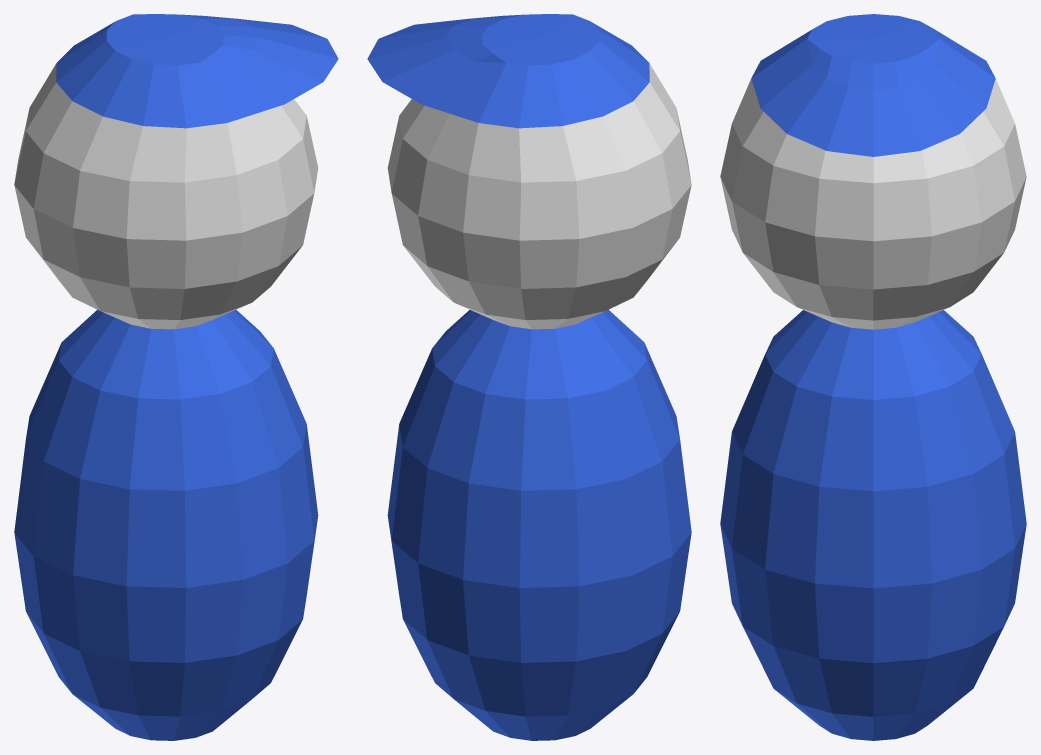
File: cop.fbx
3 renders of one model, left to right at view 1: azimuth 30°, elevation 25°; view 2: azimuth 150°, elevation 25°; view 3: azimuth 270°, elevation 25°, orthographic.
Visible parts, largest first — view 1: Cop; view 2: Cop; view 3: Cop.
Boxes of the visible parts, x1,y1,x2,y2 form: Cop: (14,14,338,740); Cop: (367,14,691,740); Cop: (720,14,1026,740).
Size of the model in its own units: 111 by 250 by 100.
